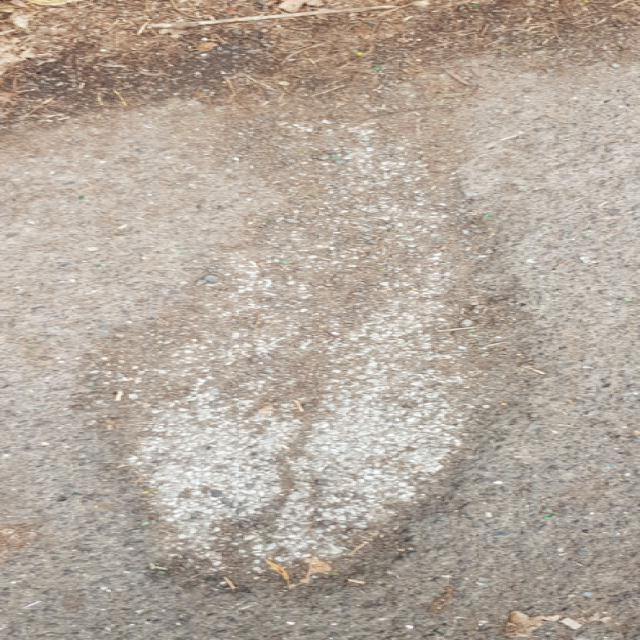Pothole: (67, 104, 542, 604)
